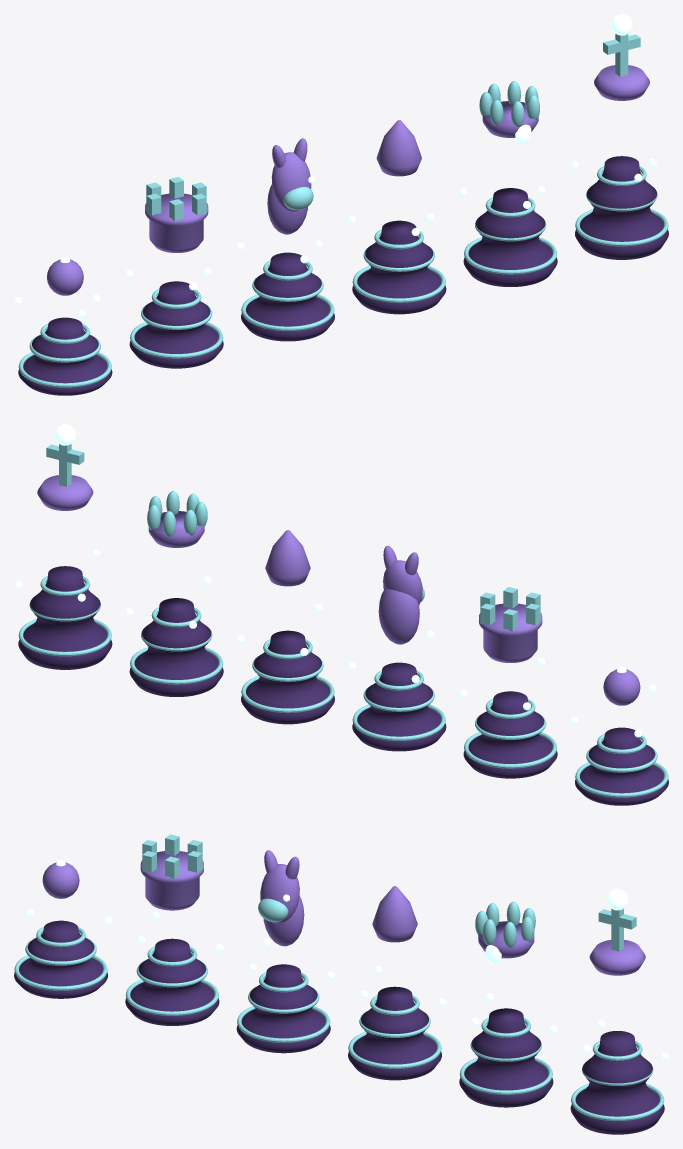
The model's file is 11_Espejo_Dimension_Vacio_6_Piezas.glb.
3 renders of one model, top to bottom at view 1: azimuth 30°, elevation 25°; view 2: azimuth 150°, elevation 25°; view 3: azimuth 330°, elevation 25°, orthographic.
Parts seen in each view (by area): view 1: 11_Espejo_Dimension_Vacio_Torre, 11_Espejo_Dimension_Vacio_Rey, 11_Espejo_Dimension_Vacio_Caballo, 11_Espejo_Dimension_Vacio_Reina, 11_Espejo_Dimension_Vacio_Alfil, 11_Espejo_Dimension_Vacio_Peon; view 2: 11_Espejo_Dimension_Vacio_Torre, 11_Espejo_Dimension_Vacio_Rey, 11_Espejo_Dimension_Vacio_Caballo, 11_Espejo_Dimension_Vacio_Reina, 11_Espejo_Dimension_Vacio_Alfil, 11_Espejo_Dimension_Vacio_Peon; view 3: 11_Espejo_Dimension_Vacio_Torre, 11_Espejo_Dimension_Vacio_Rey, 11_Espejo_Dimension_Vacio_Reina, 11_Espejo_Dimension_Vacio_Caballo, 11_Espejo_Dimension_Vacio_Alfil, 11_Espejo_Dimension_Vacio_Peon.
Boxes of the visible parts, <box> form: 11_Espejo_Dimension_Vacio_Torre: <box>125,177,223,368</box>; 11_Espejo_Dimension_Vacio_Rey: <box>570,14,668,259</box>; 11_Espejo_Dimension_Vacio_Caballo: <box>236,138,334,341</box>; 11_Espejo_Dimension_Vacio_Reina: <box>459,81,557,286</box>; 11_Espejo_Dimension_Vacio_Alfil: <box>348,120,446,314</box>; 11_Espejo_Dimension_Vacio_Peon: <box>14,256,112,395</box>; 11_Espejo_Dimension_Vacio_Torre: <box>459,587,557,778</box>; 11_Espejo_Dimension_Vacio_Rey: <box>14,424,112,669</box>; 11_Espejo_Dimension_Vacio_Caballo: <box>348,545,446,751</box>; 11_Espejo_Dimension_Vacio_Reina: <box>125,491,223,696</box>; 11_Espejo_Dimension_Vacio_Alfil: <box>236,530,334,724</box>; 11_Espejo_Dimension_Vacio_Peon: <box>570,666,668,805</box>; 11_Espejo_Dimension_Vacio_Torre: <box>125,834,223,1025</box>; 11_Espejo_Dimension_Vacio_Rey: <box>570,889,668,1134</box>; 11_Espejo_Dimension_Vacio_Reina: <box>459,901,557,1107</box>; 11_Espejo_Dimension_Vacio_Caballo: <box>236,850,334,1053</box>; 11_Espejo_Dimension_Vacio_Alfil: <box>348,886,446,1080</box>; 11_Espejo_Dimension_Vacio_Peon: <box>14,860,112,998</box>.
Size of the model in its own units: 8.16 by 2.77 by 1.09.
